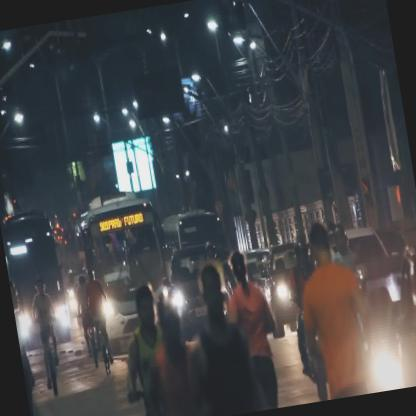bus: (75, 188, 178, 358)
motorcycle: (29, 276, 66, 398), (82, 265, 118, 378), (73, 273, 101, 370)
